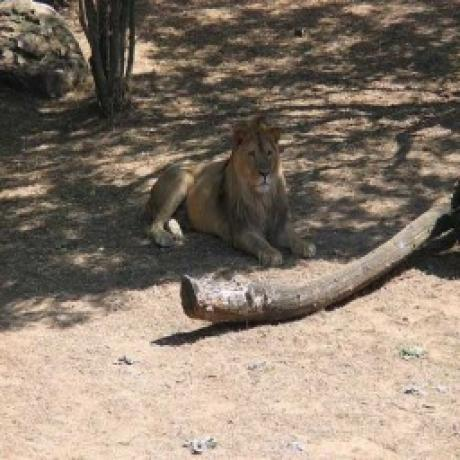Lion: (143, 121, 318, 267)
